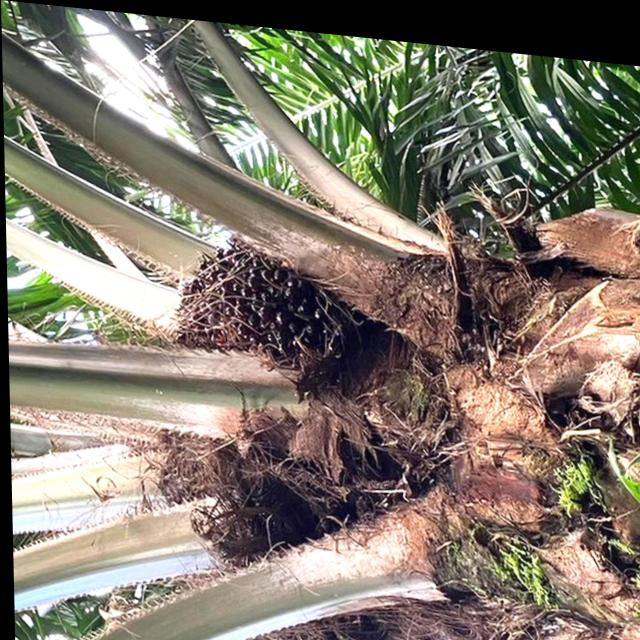ripe: (171, 227, 361, 382)
